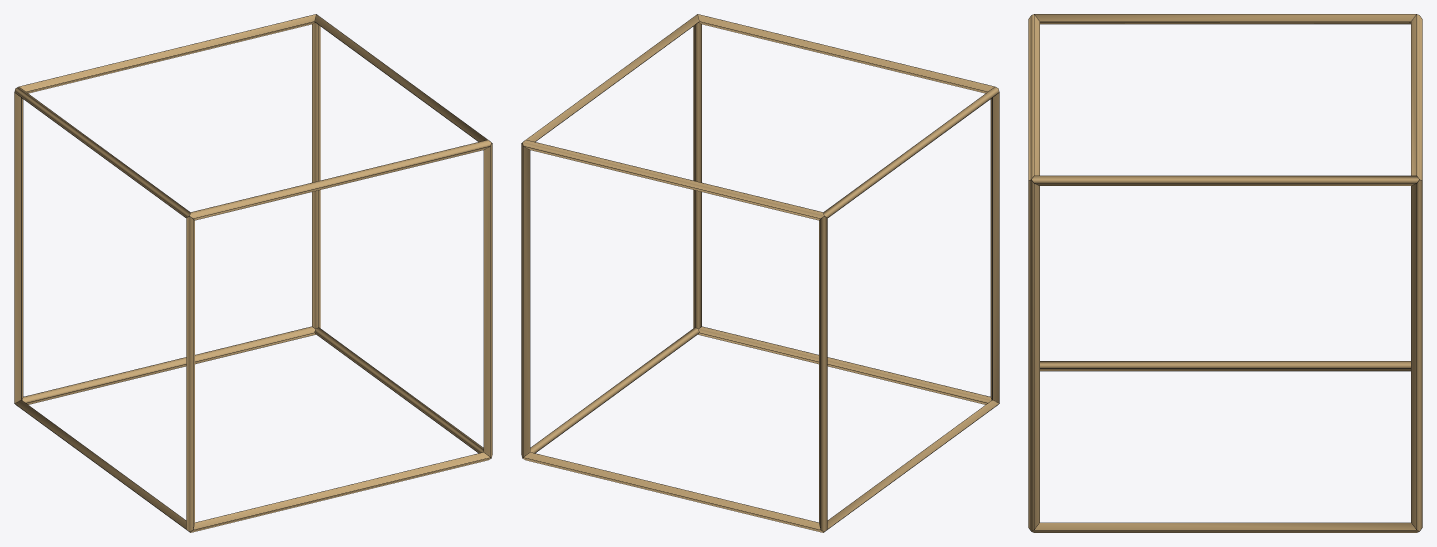
The picture shows the model from 3 angles, left to right: view 1: azimuth 30°, elevation 25°; view 2: azimuth 150°, elevation 25°; view 3: azimuth 270°, elevation 25°; orthographic projection. The views are drawn at different scales.
Parts seen in each view (by area): view 1: arete-Z0, arete-X2, arete-Z1, arete-X0, arete-Z2, arete-X3, arete-Z3, arete-X1, arete-Y2, arete-Y0, arete-Y3, arete-Y1 (+8 smaller); view 2: arete-Z2, arete-X3, arete-Z3, arete-X1, arete-Z0, arete-X2, arete-Z1, arete-X0, arete-Y2, arete-Y0, arete-Y3, arete-Y1 (+8 smaller); view 3: arete-Z1, arete-Z3, arete-Y3, arete-Y1, arete-Y2, arete-Y0, arete-X2, arete-X3, arete-wire-Y1, arete-wire-Y2, arete-wire-Y0, arete-wire-Z1 (+4 smaller).
Boxes of the visible parts, bbox=[...] form: arete-Z0: bbox=[186, 216, 194, 531]; arete-X2: bbox=[190, 140, 491, 220]; arete-Z1: bbox=[484, 143, 492, 457]; arete-X0: bbox=[190, 452, 490, 532]; arete-Z2: bbox=[14, 93, 22, 402]; arete-X3: bbox=[19, 14, 315, 93]; arete-Z3: bbox=[312, 22, 320, 328]; arete-X1: bbox=[22, 327, 315, 404]; arete-Y2: bbox=[15, 87, 190, 217]; arete-Y0: bbox=[15, 400, 186, 528]; arete-Y3: bbox=[314, 14, 487, 141]; arete-Y1: bbox=[314, 327, 483, 452]; arete-Z2: bbox=[819, 216, 827, 531]; arete-X3: bbox=[522, 140, 823, 220]; arete-Z3: bbox=[521, 143, 529, 457]; arete-X1: bbox=[523, 452, 823, 532]; arete-Z0: bbox=[991, 93, 999, 402]; arete-X2: bbox=[698, 14, 994, 93]; arete-Z1: bbox=[693, 22, 701, 328]; arete-X0: bbox=[698, 327, 991, 404]; arete-Y2: bbox=[823, 87, 998, 217]; arete-Y0: bbox=[827, 400, 998, 528]; arete-Y3: bbox=[526, 14, 699, 141]; arete-Y1: bbox=[530, 327, 699, 452]; arete-Z1: bbox=[1028, 180, 1039, 530]; arete-Z3: bbox=[1411, 180, 1422, 530]; arete-Y3: bbox=[1032, 176, 1418, 185]; arete-Y1: bbox=[1032, 523, 1418, 532]; arete-Y2: bbox=[1035, 14, 1415, 23]; arete-Y0: bbox=[1040, 361, 1410, 370]; arete-X2: bbox=[1028, 14, 1039, 180]; arete-X3: bbox=[1411, 14, 1422, 180]; arete-wire-Y1: bbox=[1031, 522, 1419, 532]; arete-wire-Y2: bbox=[1034, 14, 1419, 24]; arete-wire-Y0: bbox=[1040, 361, 1410, 371]; arete-wire-Z1: bbox=[1028, 179, 1039, 529].
Bounding box in the file's own units: 2.03 × 2.03 × 2.03.
